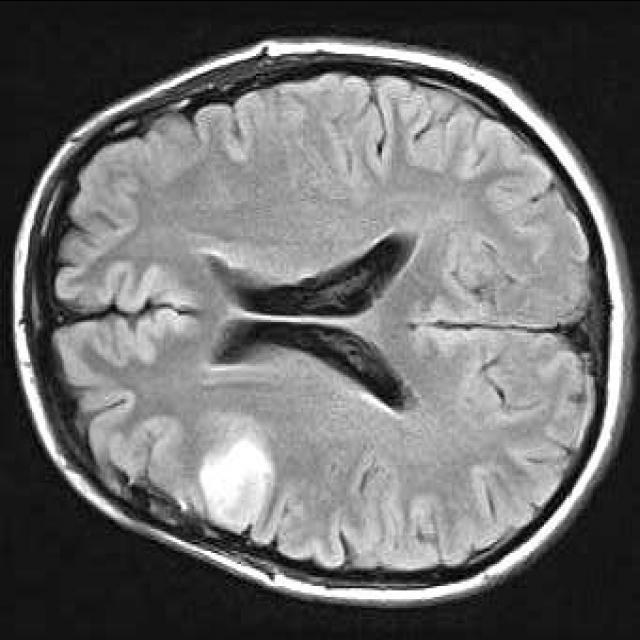tumor: (200, 438, 277, 532)
